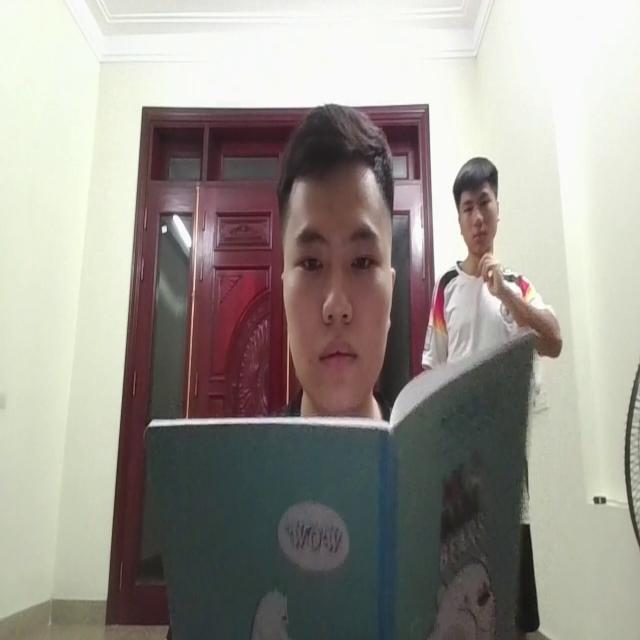book: (139, 339, 530, 640)
extra_person: (436, 159, 531, 370)
student: (281, 94, 396, 414)
